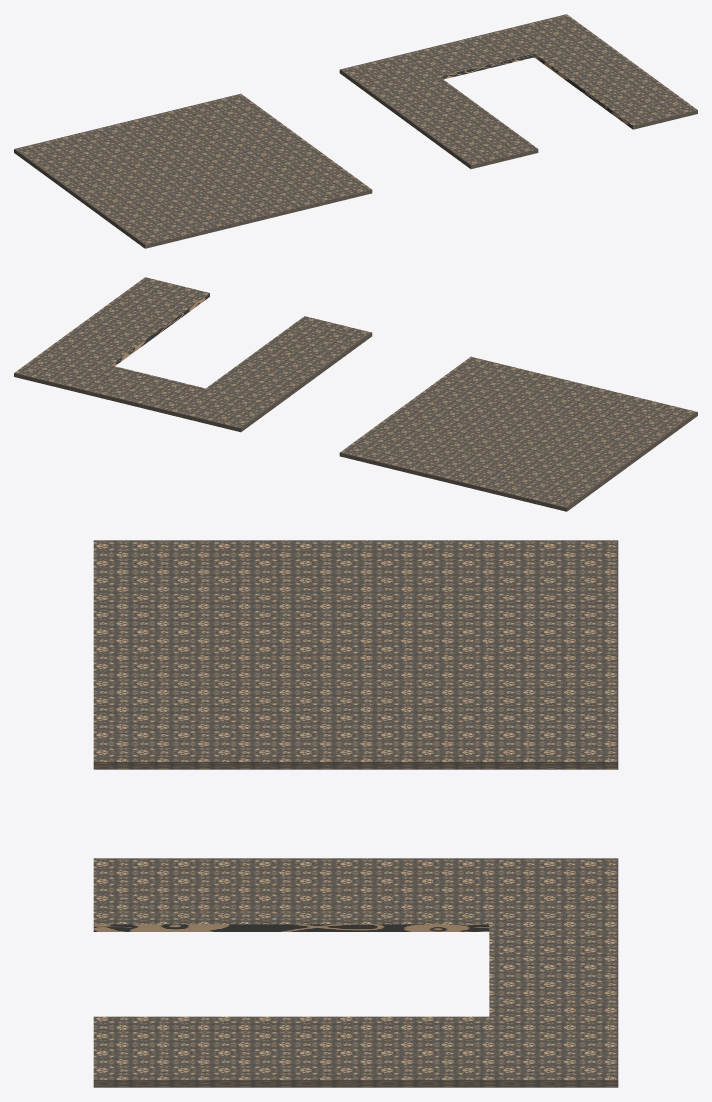
File: act0_oda_duvar.fbx
3 views of the same model, one above another, from view 1: azimuth 30°, elevation 25°; view 2: azimuth 150°, elevation 25°; view 3: azimuth 270°, elevation 25° (orthographic). The views are drawn at different scales.
Visible parts, largest first — view 1: Cube, Cube.001; view 2: Cube, Cube.001; view 3: Cube, Cube.001.
Part boxes in pixels (<box>): Cube: <box>14,93,372,248</box>; Cube.001: <box>339,14,697,169</box>; Cube: <box>339,356,697,511</box>; Cube.001: <box>14,277,372,432</box>; Cube: <box>93,540,618,769</box>; Cube.001: <box>93,858,618,1087</box>.
Bounding box in the file's own units: 2434 × 16 × 1000.
